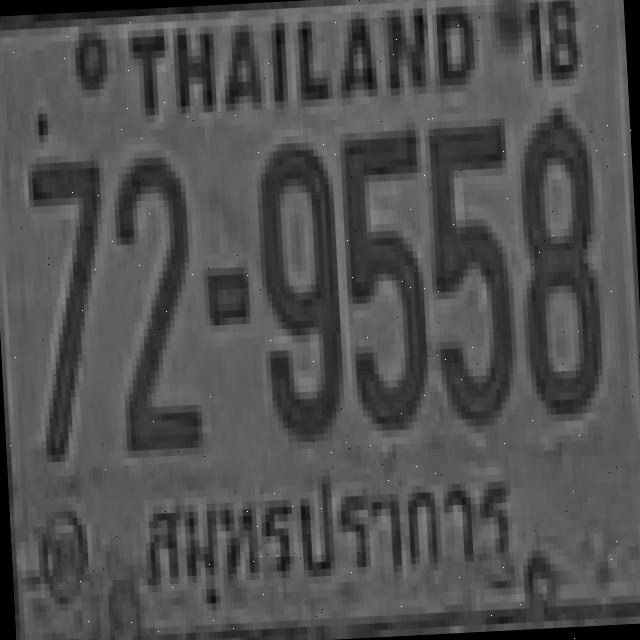2: (107, 149, 199, 451)
5: (334, 123, 430, 425), (424, 118, 516, 420)
7: (25, 154, 112, 456)
8: (514, 107, 600, 416)
9: (252, 134, 344, 436)
SamutPrakan: (132, 460, 524, 590)
